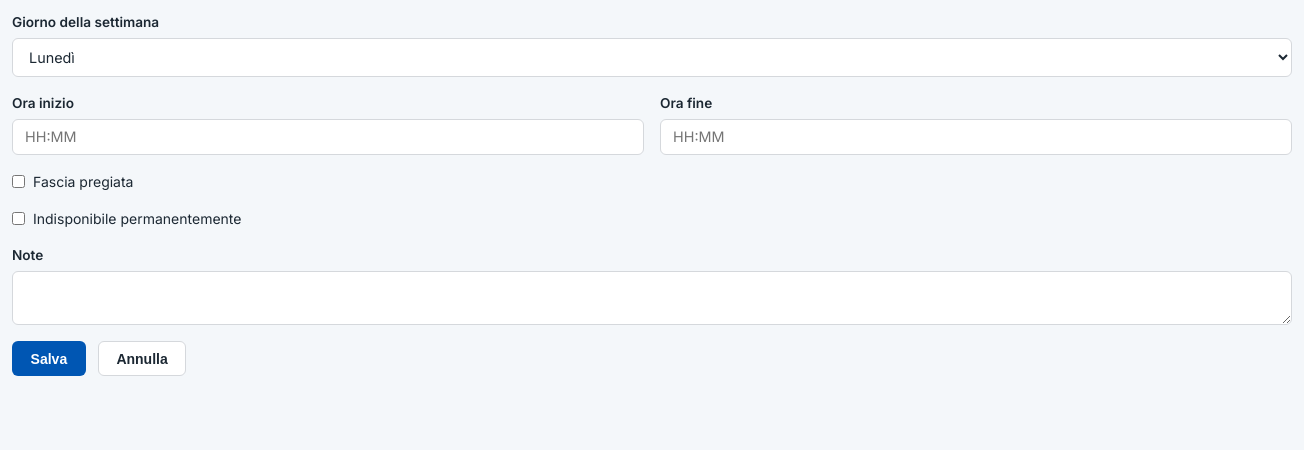
Test case: SlotForm › orario non valido (fine prima di inizio): mostra errore senza chiamare l'API
The width and height of the screenshot is (1304, 450).
Select "Lunedì" in the dropdown labelled "Giorno della settimana" at (652, 57), box [12, 38, 1292, 77]
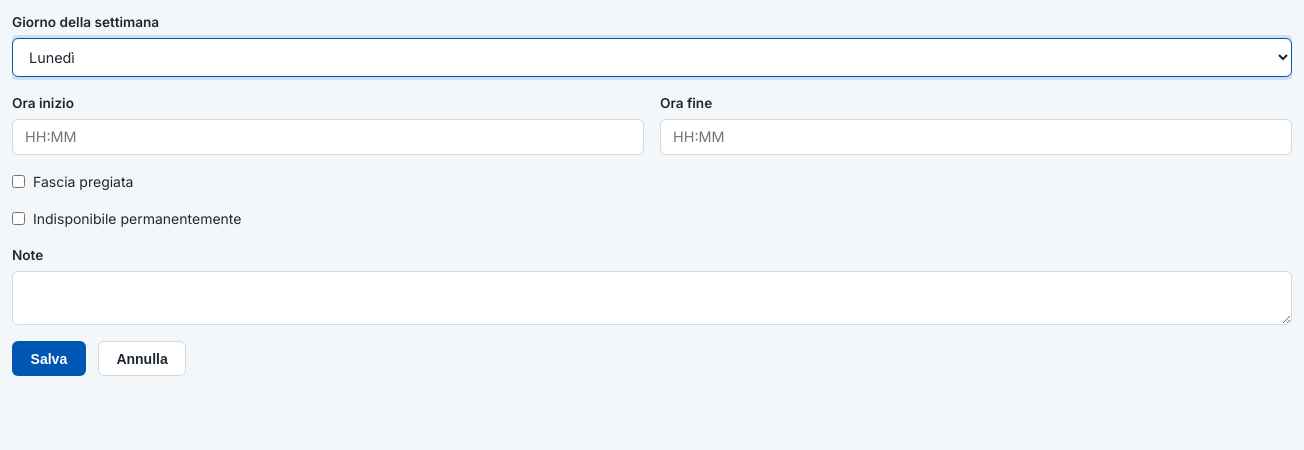
Type "19:00" into the field labelled "Ora inizio" at (328, 137), box [12, 119, 644, 155]
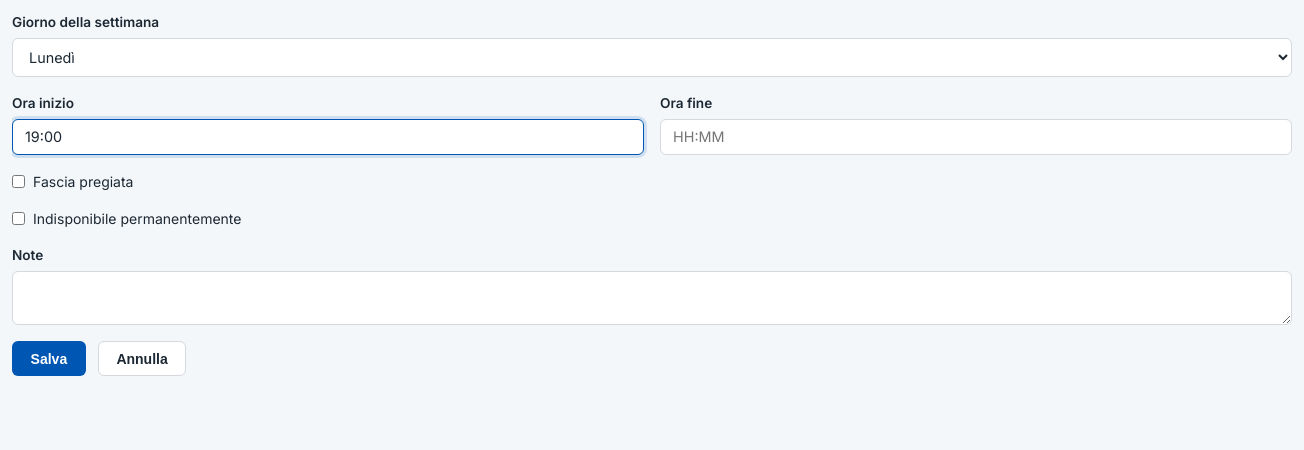
Type "18:00" into the field labelled "Ora fine" at (976, 137), box [660, 119, 1292, 155]
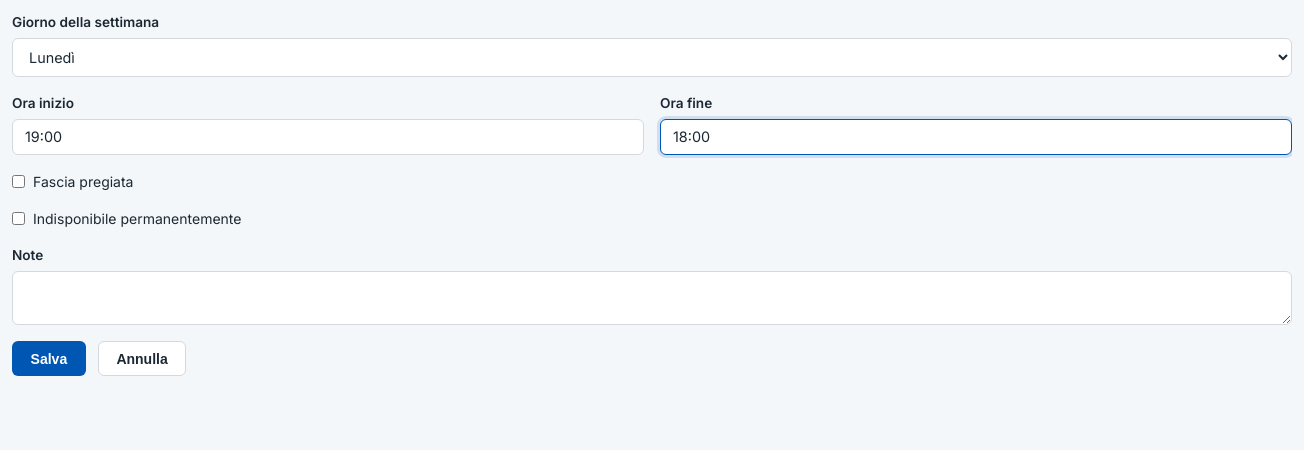
Click the button "Salva" at (49, 358), box [12, 341, 86, 376]
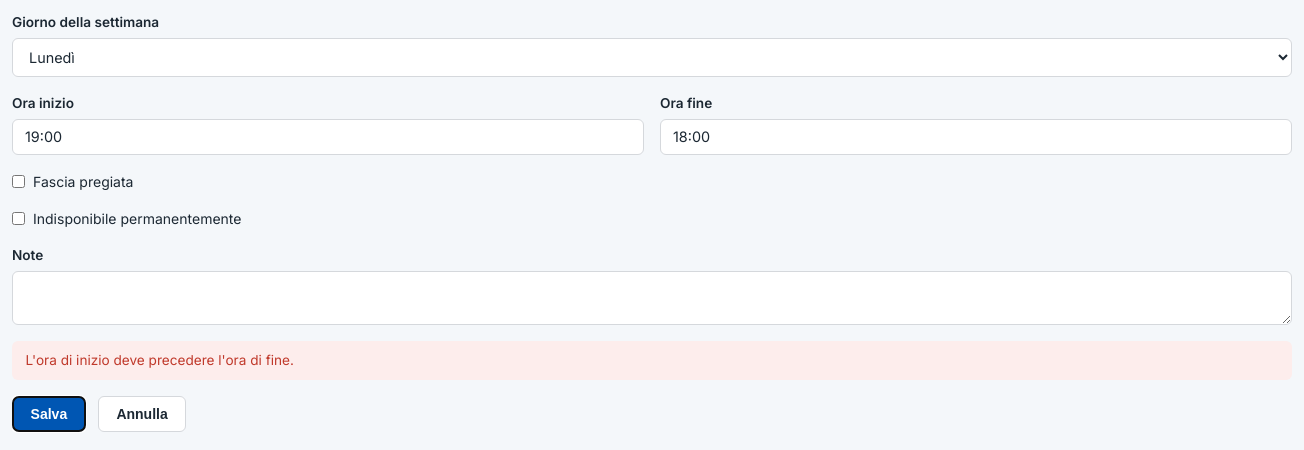
Expected: the text "L'ora di inizio deve precedere l'ora di fine." is shown, [12, 341, 1292, 380]
